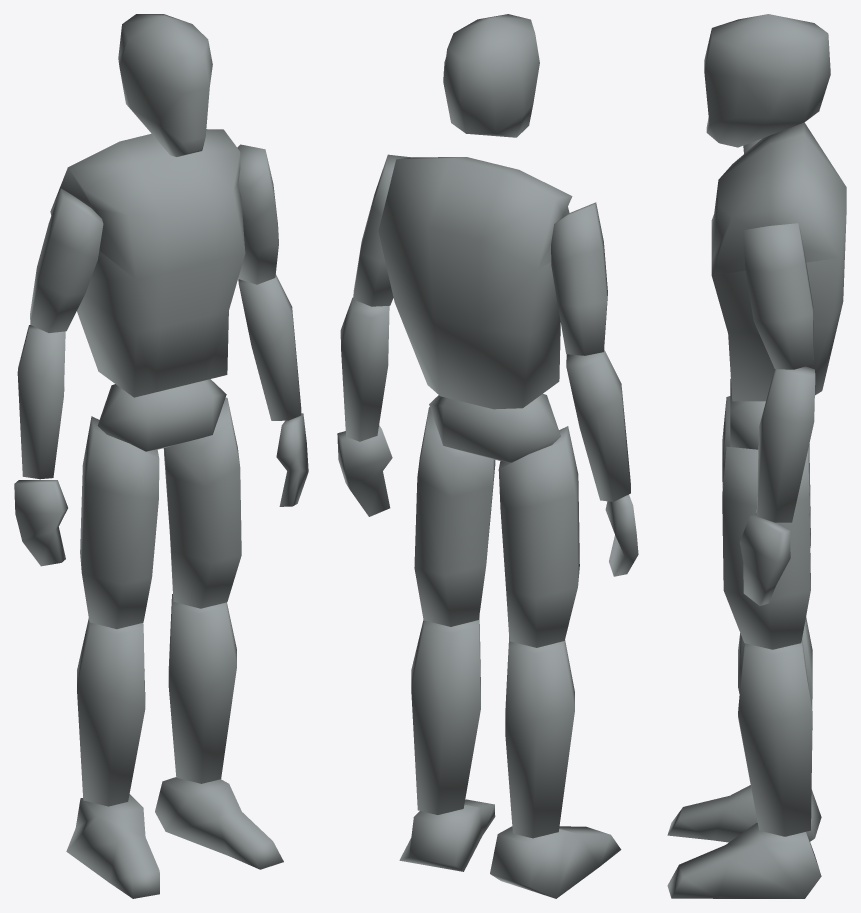
File: dummy_test.obj
3 renders of one model, left to right at view 1: azimuth 30°, elevation 25°; view 2: azimuth 150°, elevation 25°; view 3: azimuth 270°, elevation 25°, orthographic. The views are drawn at different scales.
Visible parts, largest first — view 1: test_maniquin; view 2: test_maniquin; view 3: test_maniquin.
Boxes of the visible parts, box(x1,y1,x2,y2) form: test_maniquin: box(14, 14, 308, 898); test_maniquin: box(337, 14, 638, 898); test_maniquin: box(667, 14, 846, 898).
Size of the model in its own units: 0.468 by 1.27 by 0.2431.
